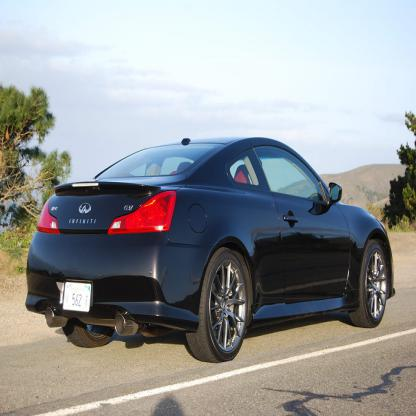Vehicle: (24, 132, 396, 368)
